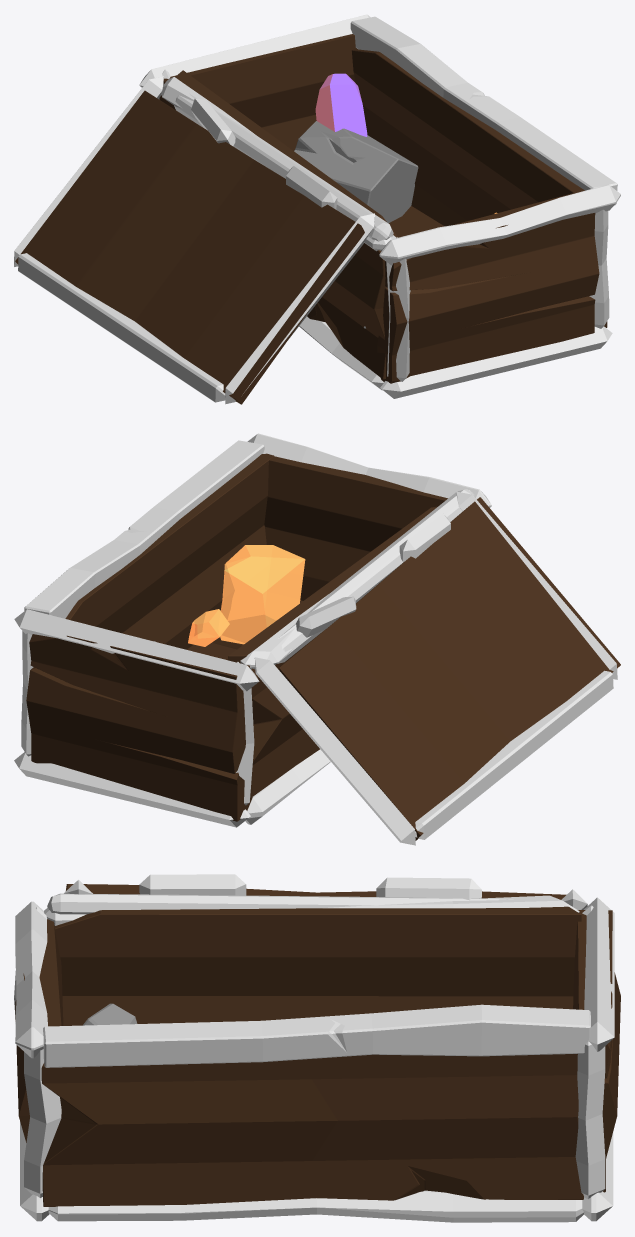
Rendered from Chest Open 1.fbx.
The picture shows the model from 3 angles, top to bottom: view 1: azimuth 30°, elevation 25°; view 2: azimuth 150°, elevation 25°; view 3: azimuth 270°, elevation 25°; orthographic projection. The views are drawn at different scales.
Visible parts, largest first — view 1: Plank .055, Plank .016, Plank .015, Plank .017, Cube.176, Plank .019, Rock.003, Cube.174, Cube.305, Cube.165, Cube.306, Cube.175 (+10 smaller); view 2: Plank .055, Plank .017, Plank .015, Plank .016, Cube.176, Plank .019, Cylinder.060, Cube.305, Cube.175, Cube.308, Cube.166, Cube.306 (+10 smaller); view 3: Plank .015, Plank .019, Cube.176, Cube.167, Cube.306, Cube.174, Cube.171, Cube.175, Cube.170, Plank .017, Plank .016, Cube.205 (+6 smaller).
Part boxes in pixels (x1,y1,x2,y2): Plank .055: [15, 90, 364, 404]; Plank .016: [377, 193, 599, 383]; Plank .015: [352, 49, 607, 327]; Plank .017: [163, 34, 356, 150]; Cube.176: [350, 16, 617, 205]; Plank .019: [159, 70, 398, 379]; Rock.003: [294, 121, 418, 223]; Cube.174: [379, 184, 620, 265]; Cube.305: [18, 253, 225, 402]; Cube.165: [380, 326, 612, 398]; Cube.306: [174, 93, 393, 241]; Cube.175: [139, 14, 370, 87]; Plank .055: [279, 497, 620, 840]; Plank .017: [26, 634, 252, 821]; Plank .015: [65, 453, 273, 649]; Plank .016: [264, 456, 447, 600]; Cube.176: [24, 440, 264, 618]; Plank .019: [227, 506, 437, 796]; Cylinder.060: [220, 545, 305, 644]; Cube.305: [415, 670, 613, 839]; Cube.175: [14, 609, 259, 691]; Cube.308: [254, 657, 415, 845]; Cube.166: [14, 752, 250, 827]; Cube.306: [277, 489, 476, 663]; Plank .015: [41, 1054, 583, 1206]; Plank .019: [54, 906, 581, 1025]; Cube.176: [43, 1004, 590, 1067]; Cube.167: [48, 1190, 584, 1222]; Cube.306: [47, 893, 513, 914]; Cube.174: [15, 901, 47, 1058]; Cube.171: [575, 1041, 605, 1199]; Cube.175: [584, 897, 614, 1051]; Cube.170: [24, 1049, 61, 1197]; Plank .017: [573, 910, 620, 1192]; Plank .016: [15, 919, 63, 1142]; Cube.205: [139, 874, 246, 895].
Size of the model in its own units: 47.54 by 20.88 by 52.85.
